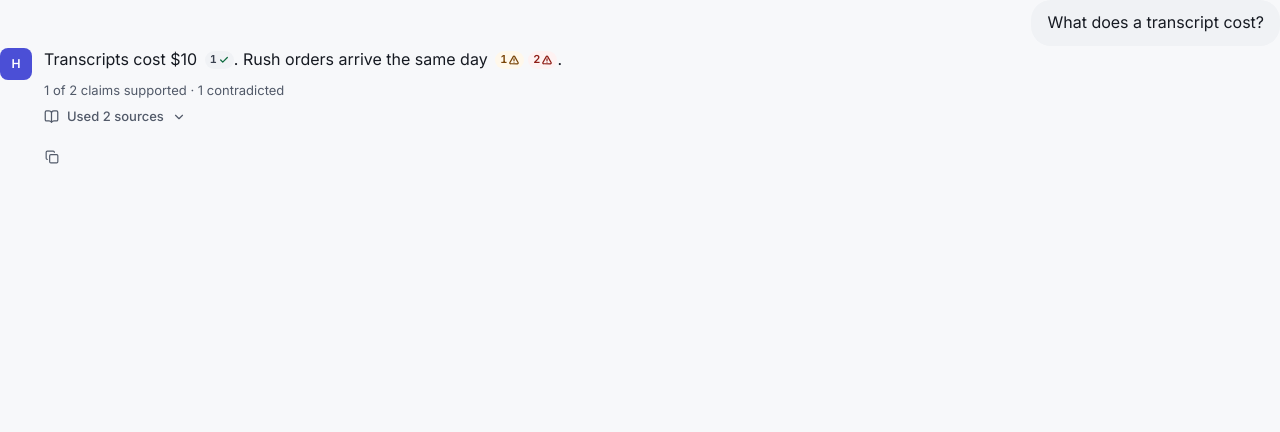
Scenario: source viewer › opens a public answer's passages through the visitor's session
Click the button "Used 2 sources".
click(115, 117)  # box [36,101,194,133]
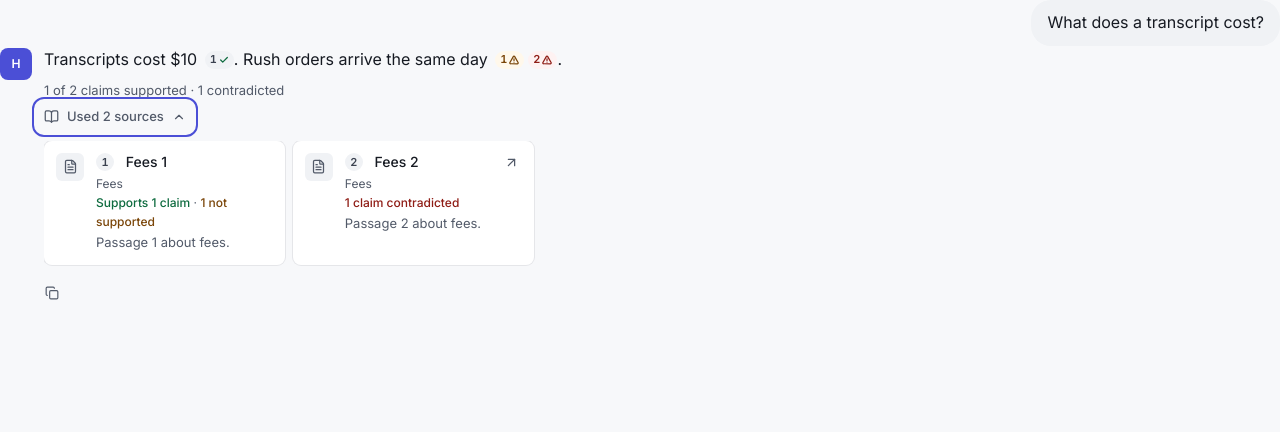
Click the button named "Show source 1: Fees 1".
click(164, 203)  # box [44,141,285,265]
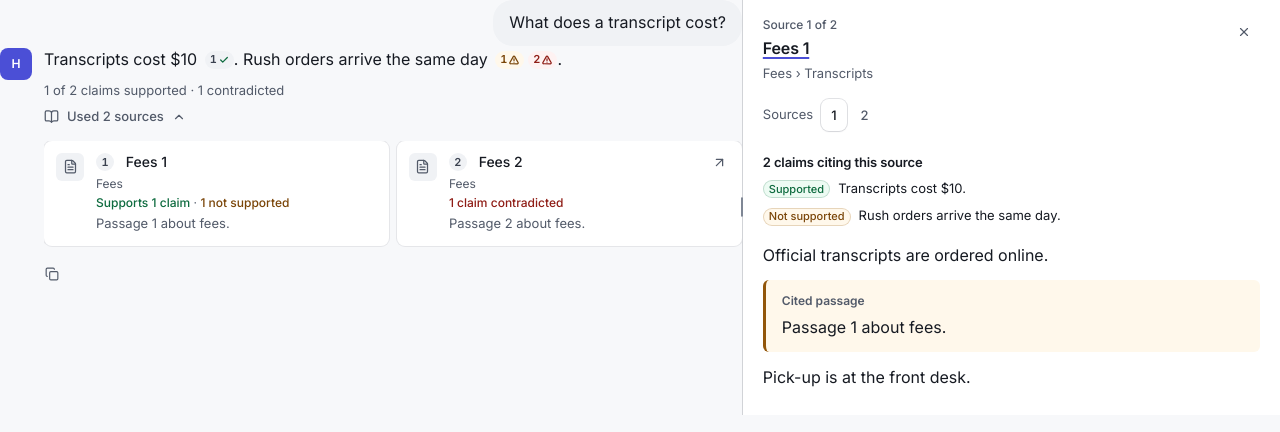
Now the element with test id "cited-passage" is shown, box [763,280,1260,352]
